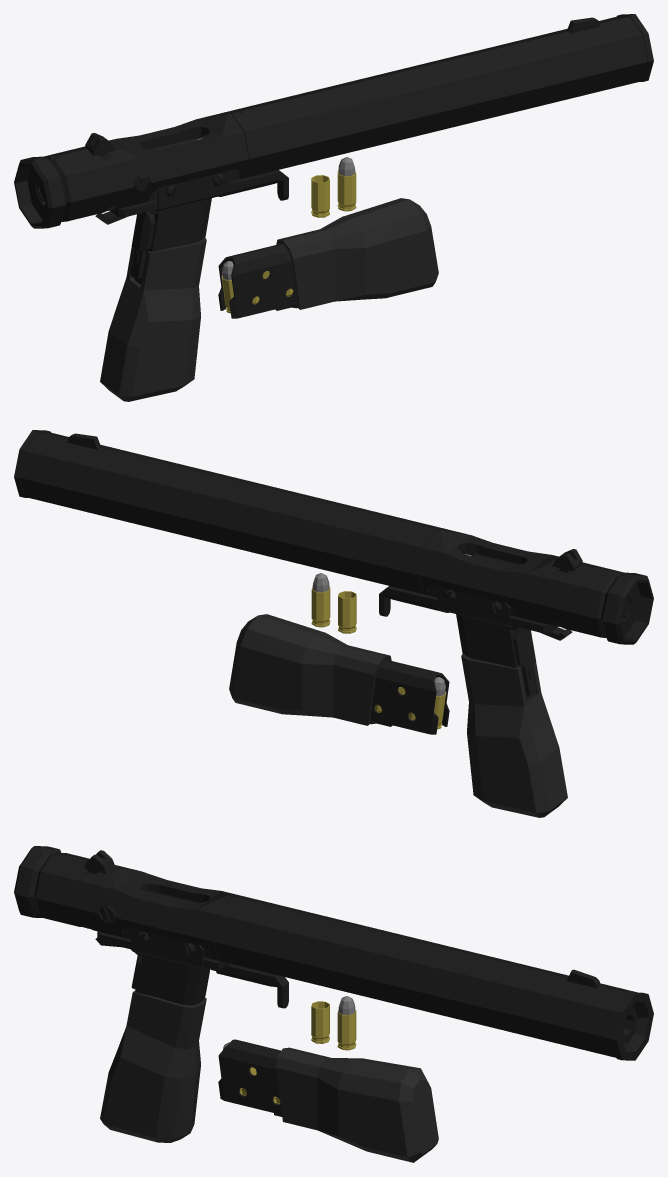
File: low-poly_welrod.glb
3 renders of one model, top to bottom at view 1: azimuth 30°, elevation 25°; view 2: azimuth 150°, elevation 25°; view 3: azimuth 330°, elevation 25°, orthographic.
Parts seen in each view (by area): view 1: welrod silencer_7, welrod 8rnd mag_3, welrod frame_5, welrod 8rnd empty mag_2, welrod bolt_4, welrod trigga_8, welrod safety_6, 32acp_0, 32acp case_1; view 2: welrod silencer_7, welrod 8rnd mag_3, welrod frame_5, welrod 8rnd empty mag_2, welrod bolt_4, welrod trigga_8, welrod safety_6, 32acp_0, 32acp case_1; view 3: welrod silencer_7, welrod 8rnd mag_3, welrod frame_5, welrod 8rnd empty mag_2, welrod bolt_4, welrod trigga_8, 32acp_0, 32acp case_1.
Boxes of the visible parts, <box> form: welrod silencer_7: <box>220,14,653,178</box>; welrod 8rnd mag_3: <box>218,198,438,318</box>; welrod frame_5: <box>43,113,249,252</box>; welrod 8rnd empty mag_2: <box>100,237,206,401</box>; welrod bolt_4: <box>14,135,206,228</box>; welrod trigga_8: <box>110,170,288,217</box>; welrod safety_6: <box>95,210,155,251</box>; 32acp_0: <box>337,157,356,211</box>; 32acp case_1: <box>311,175,329,217</box>; welrod silencer_7: <box>14,430,447,594</box>; welrod 8rnd mag_3: <box>229,614,449,734</box>; welrod frame_5: <box>418,529,624,668</box>; welrod 8rnd empty mag_2: <box>461,653,567,817</box>; welrod bolt_4: <box>461,551,653,644</box>; welrod trigga_8: <box>379,586,557,633</box>; welrod safety_6: <box>512,626,572,667</box>; 32acp_0: <box>311,573,330,627</box>; 32acp case_1: <box>338,591,356,633</box>; welrod silencer_7: <box>214,896,653,1060</box>; welrod 8rnd mag_3: <box>218,1039,438,1162</box>; welrod frame_5: <box>34,850,242,1004</box>; welrod 8rnd empty mag_2: <box>100,989,206,1142</box>; welrod bolt_4: <box>14,846,198,917</box>; welrod trigga_8: <box>97,931,288,1008</box>; 32acp_0: <box>337,996,356,1050</box>; 32acp case_1: <box>311,1001,329,1043</box>.
Bounding box in the file's own units: 3.1 × 1.3 × 0.3385.
